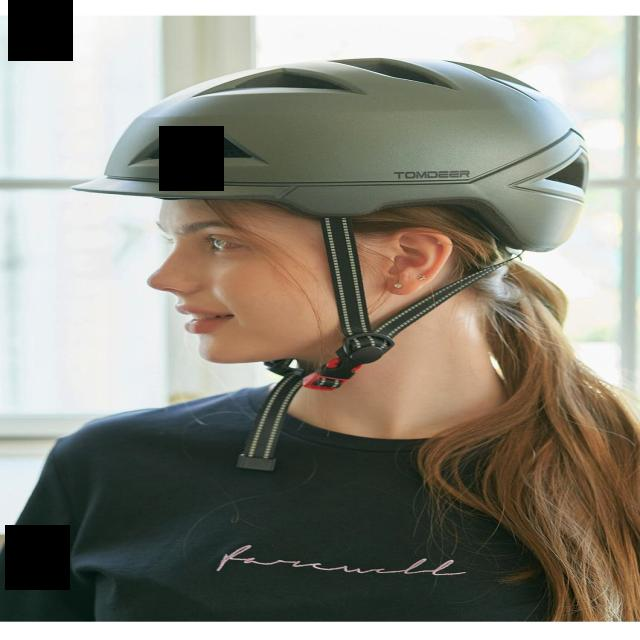Helmet: (75, 52, 593, 376)
